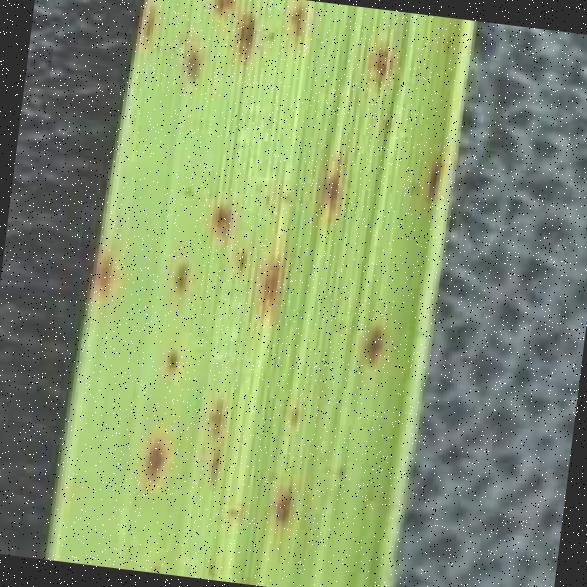Brown_Spot: (304, 140, 373, 216), (342, 306, 394, 377), (350, 28, 404, 90), (259, 474, 313, 532), (188, 189, 245, 240), (130, 424, 173, 489), (249, 247, 290, 314), (77, 239, 123, 298), (193, 386, 236, 447), (167, 31, 210, 87), (414, 139, 446, 212), (218, 3, 258, 50), (279, 0, 317, 43), (274, 393, 308, 433), (156, 333, 184, 379), (133, 0, 163, 42), (162, 252, 192, 292), (224, 239, 251, 271), (203, 0, 236, 13)
